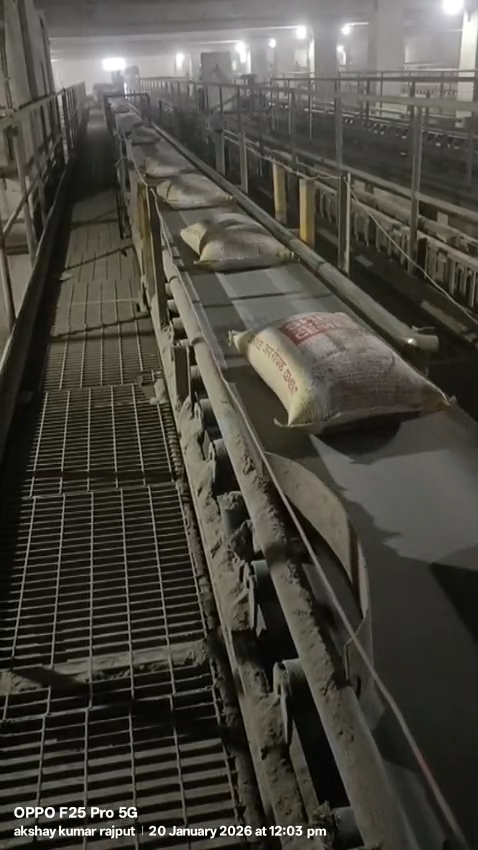Bag: (239, 302, 383, 420), (184, 209, 298, 274), (160, 171, 238, 209)
Printed: (248, 324, 313, 399), (272, 307, 367, 352)
